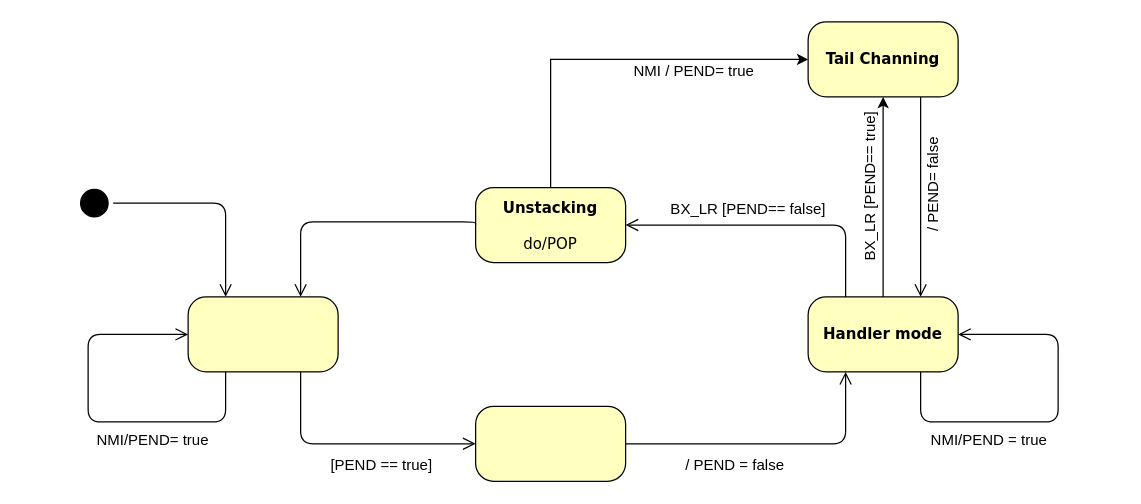
The diagram is 1141 pixels wide and 504 high, and some of its shapes have lost their labels. The shapes that lost their labels are listed below. From the top down, each one's box as (x1, y1, x2, y2) in pixels, then its label:
(187, 296, 338, 372): Thread mode
(474, 405, 626, 481): Stacking do/PUSH
